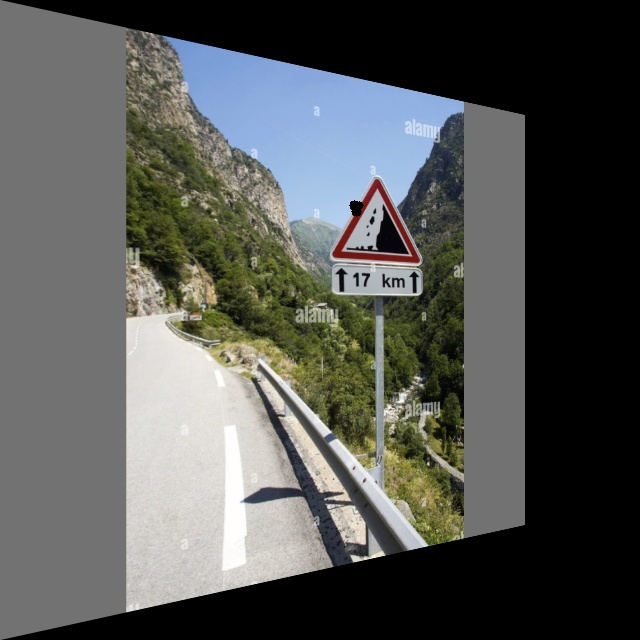Falling_Rocks: (332, 170, 419, 264)
